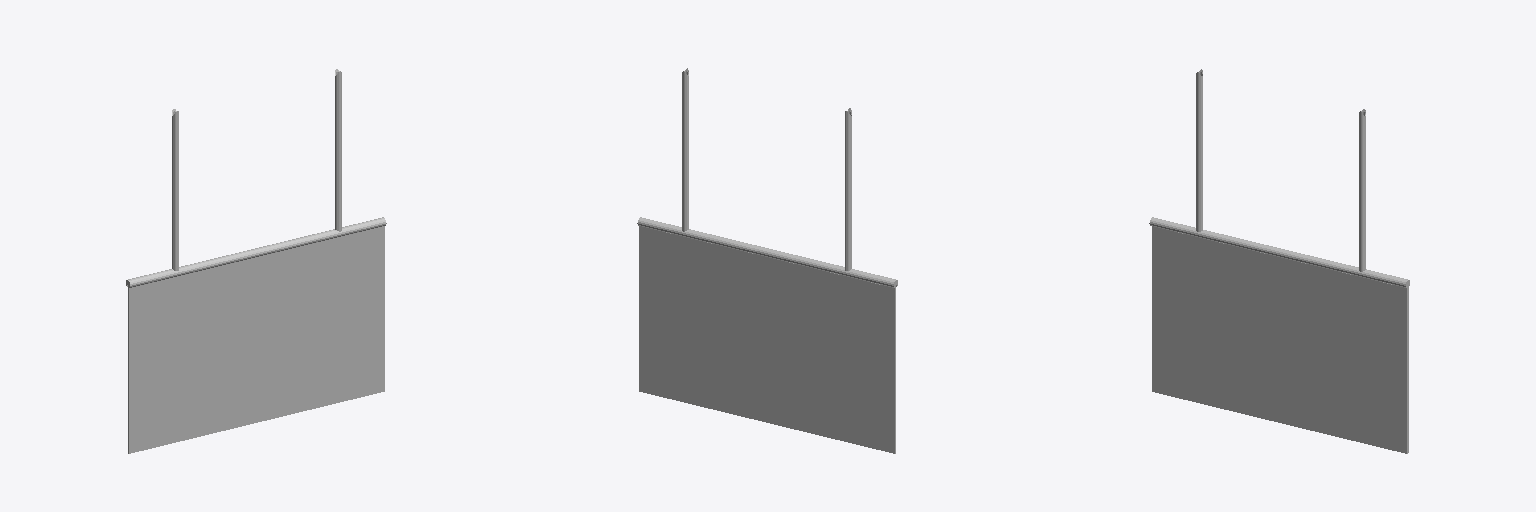
Rendered from HangingSign.obj.
3 renders of one model, left to right at view 1: azimuth 30°, elevation 25°; view 2: azimuth 150°, elevation 25°; view 3: azimuth 330°, elevation 25°, orthographic.
Parts seen in each view (by area): view 1: glass-001, structure, hanger_(2), hanger; view 2: glass-001_(2), structure, hanger_(2), hanger; view 3: glass-001, structure, hanger_(2), hanger.
Boxes of the visible parts, x1,y1,x2,y2 form: glass-001: [128, 226, 384, 453]; structure: [126, 217, 386, 287]; hanger_(2): [335, 69, 341, 231]; hanger: [172, 109, 178, 270]; glass-001_(2): [639, 226, 895, 453]; structure: [637, 217, 897, 287]; hanger_(2): [682, 68, 688, 231]; hanger: [845, 108, 851, 270]; glass-001: [1152, 226, 1407, 453]; structure: [1149, 217, 1409, 287]; hanger_(2): [1359, 109, 1365, 271]; hanger: [1196, 69, 1202, 231].
Bounding box in the file's own units: 47.38 × 58.82 × 1.6.